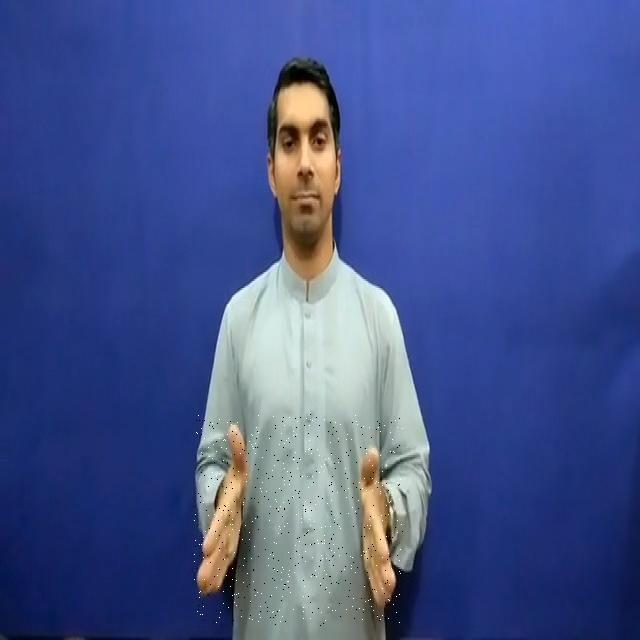manager: (194, 414, 403, 626)
